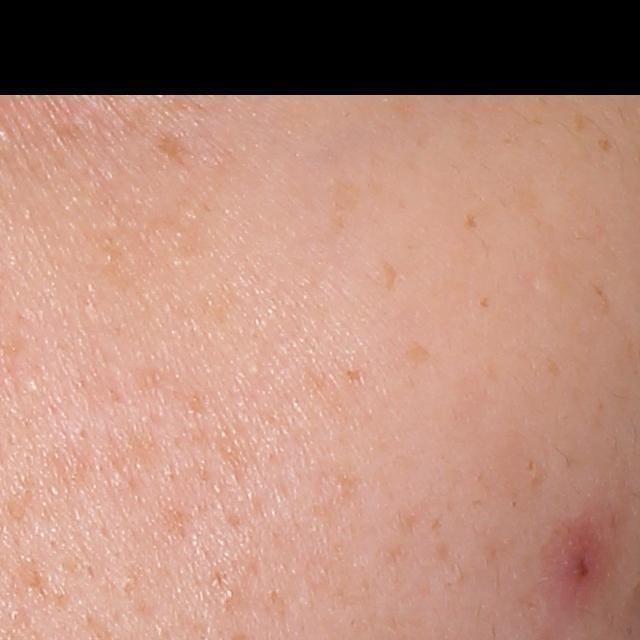melasma: (326, 171, 364, 242), (153, 127, 192, 166), (397, 338, 432, 369), (383, 259, 401, 295), (545, 354, 562, 384), (459, 210, 480, 230), (570, 109, 586, 134), (347, 367, 366, 386), (475, 292, 495, 310), (596, 137, 616, 154)
